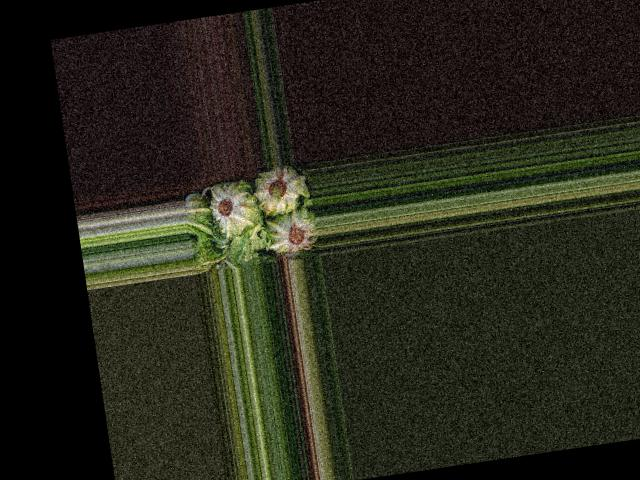lettuce: (264, 206, 320, 257)
